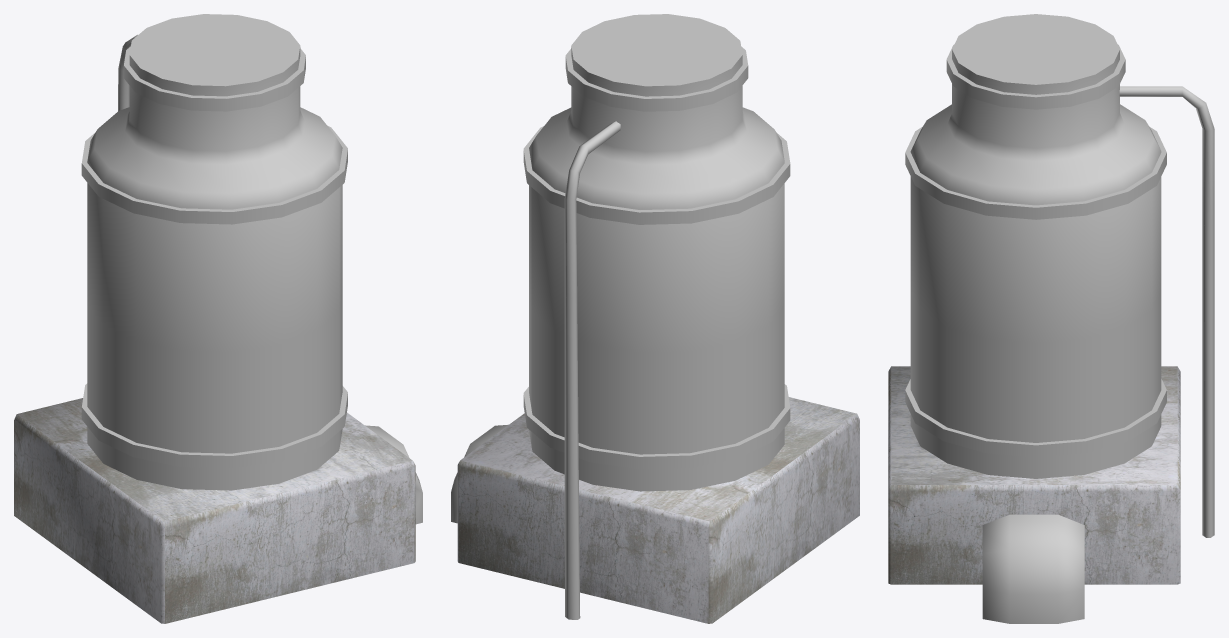
File: mallbil_aircon04.fbx
The picture shows the model from 3 angles, left to right: view 1: azimuth 30°, elevation 25°; view 2: azimuth 150°, elevation 25°; view 3: azimuth 270°, elevation 25°; orthographic projection. The views are drawn at different scales.
Visible parts, largest first — view 1: mallbil_aircon04; view 2: mallbil_aircon04; view 3: mallbil_aircon04.
Boxes of the visible parts, bbox=[...] form: mallbil_aircon04: bbox=[14, 14, 422, 623]; mallbil_aircon04: bbox=[451, 14, 859, 623]; mallbil_aircon04: bbox=[888, 14, 1214, 623].
Size of the model in its own units: 242 by 363 by 220.
